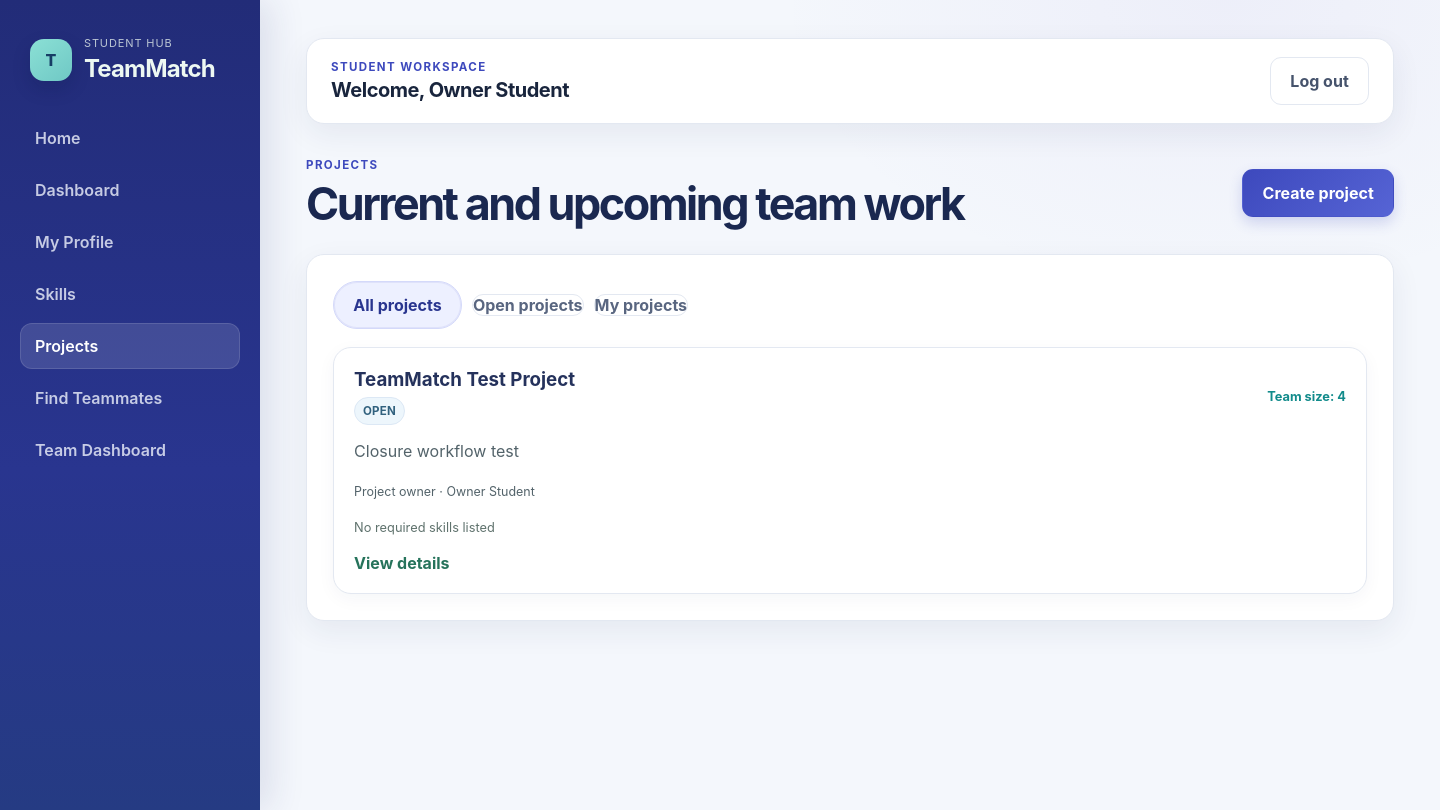
Test case: owner project closure › does not expose project closure to a non-owner
The width and height of the screenshot is (1440, 810).
Click the button "View details" at (402, 563), box left=354, top=553, right=450, bottom=573
(page scrolled)
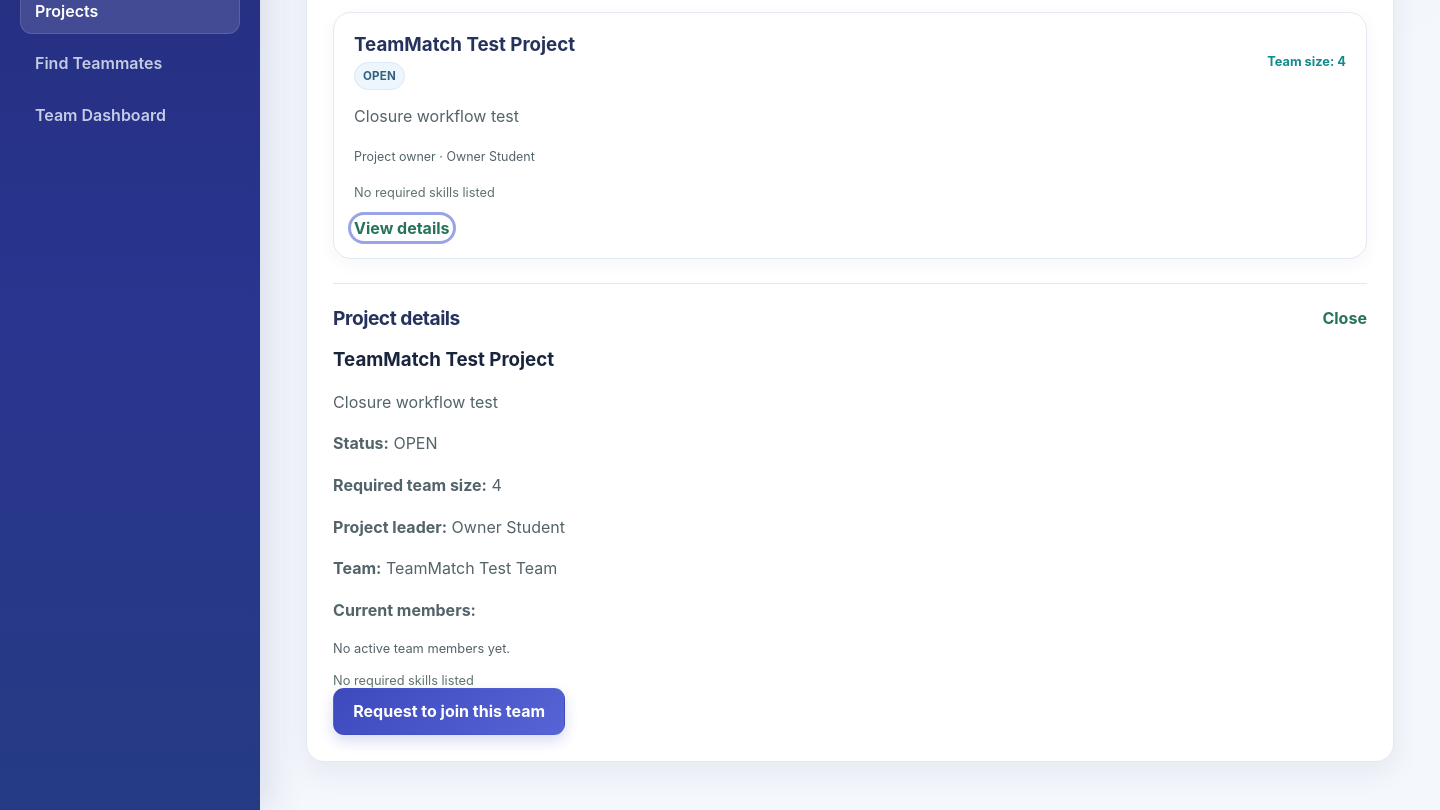
Expected: the text "Current members:" is shown, left=333, top=600, right=476, bottom=620
Expected: the button "Request to join this team" is shown, left=333, top=688, right=565, bottom=735
